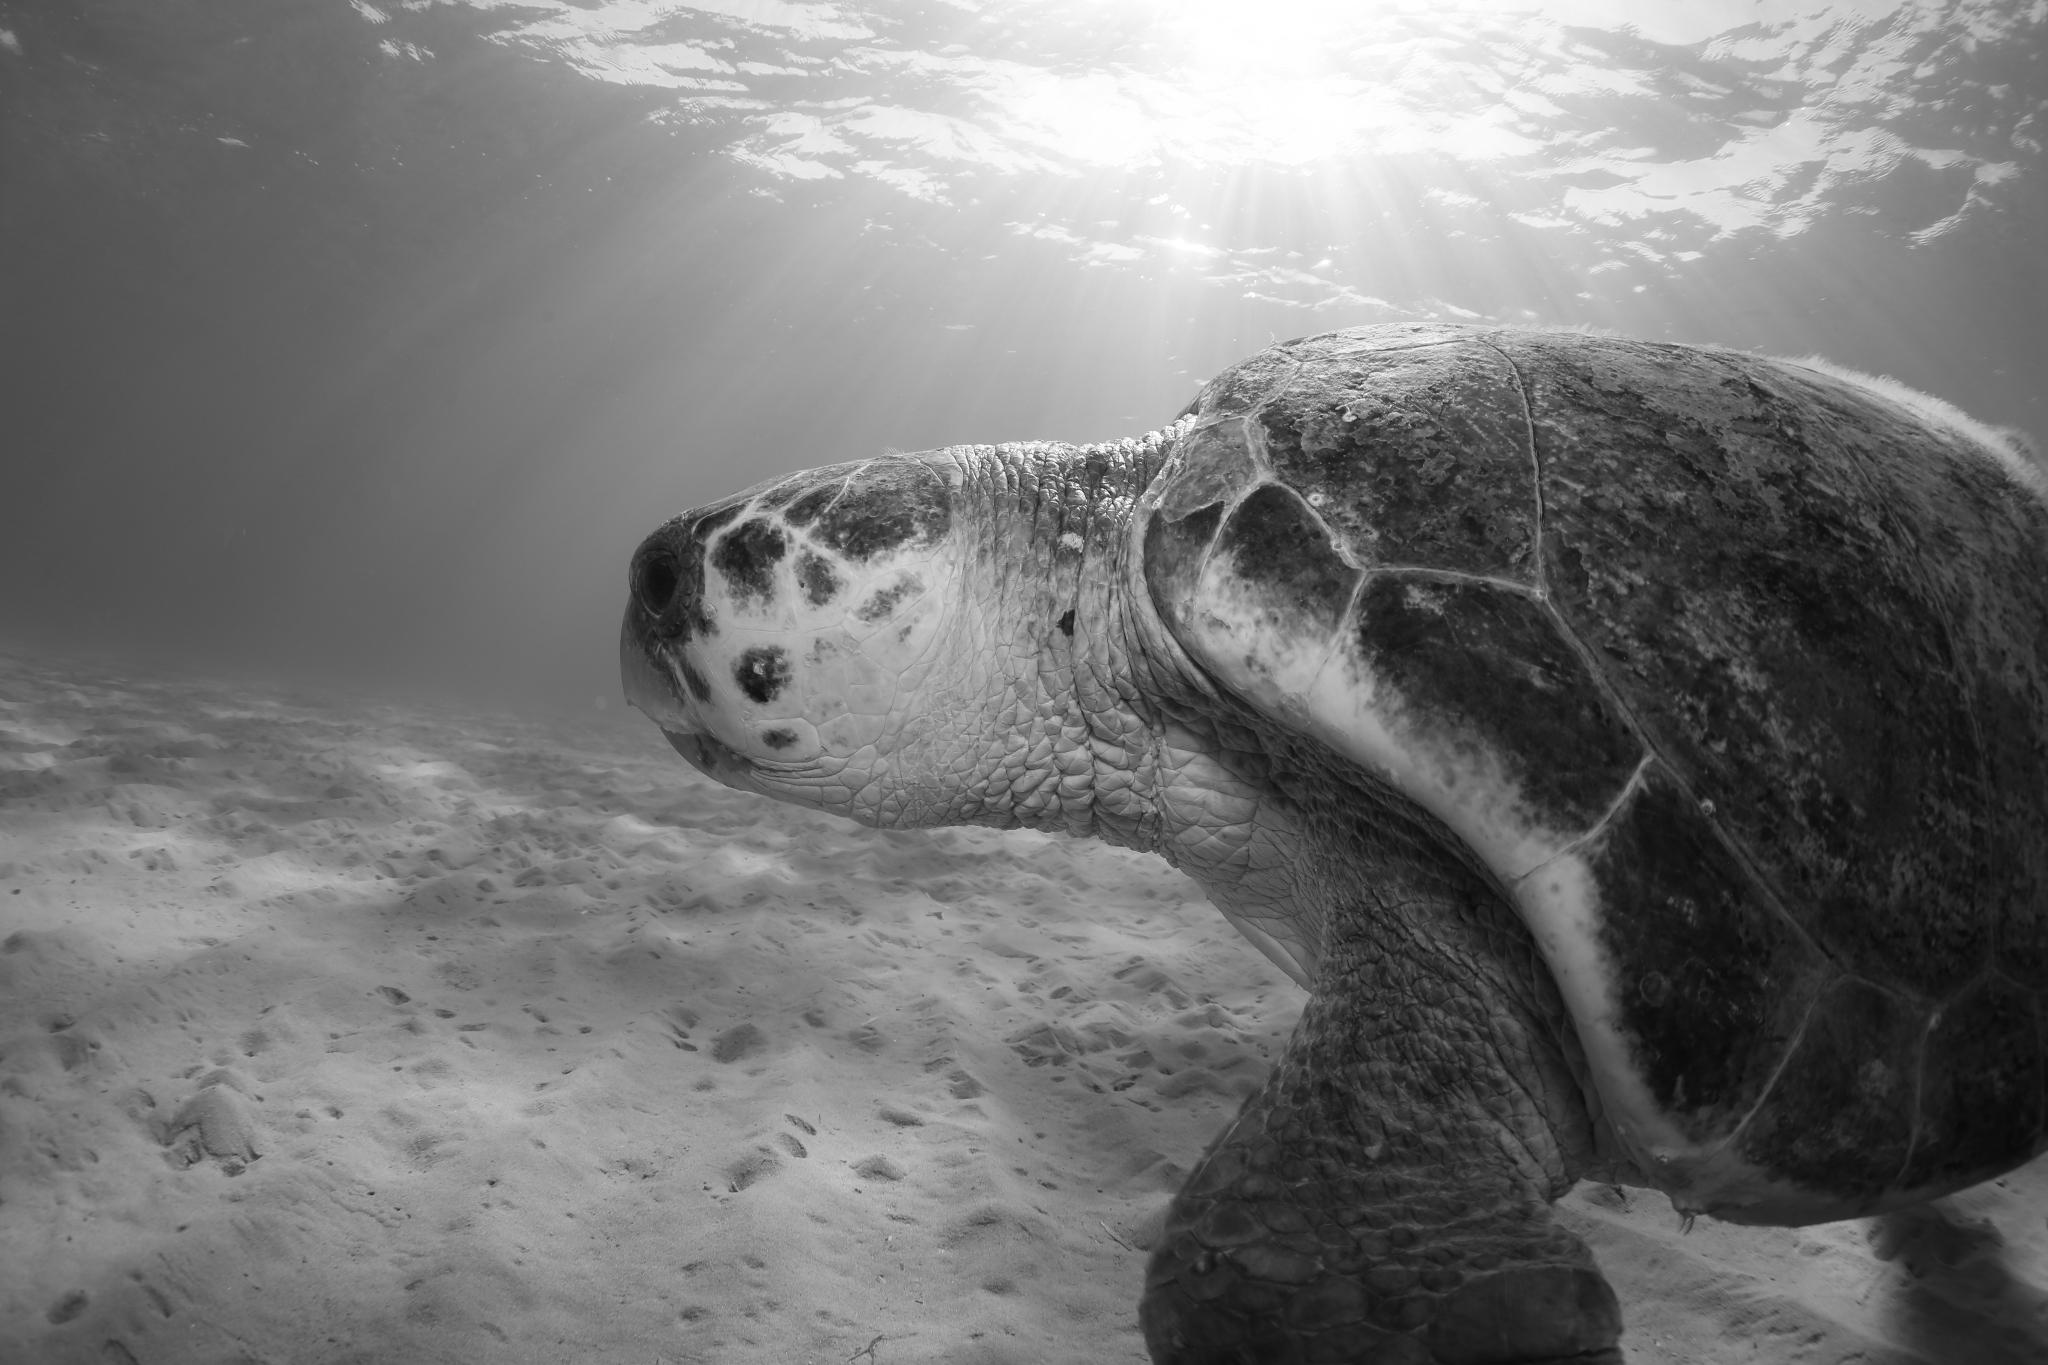Head: (621, 443, 1143, 836)
